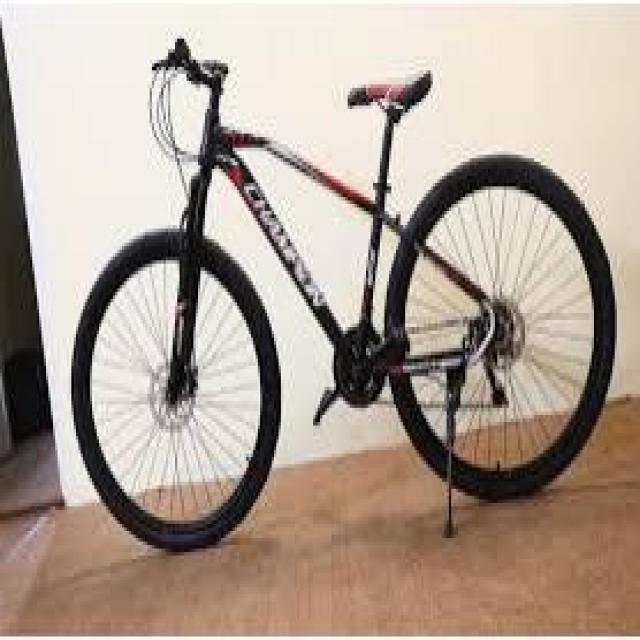bicycle: (77, 43, 591, 557)
